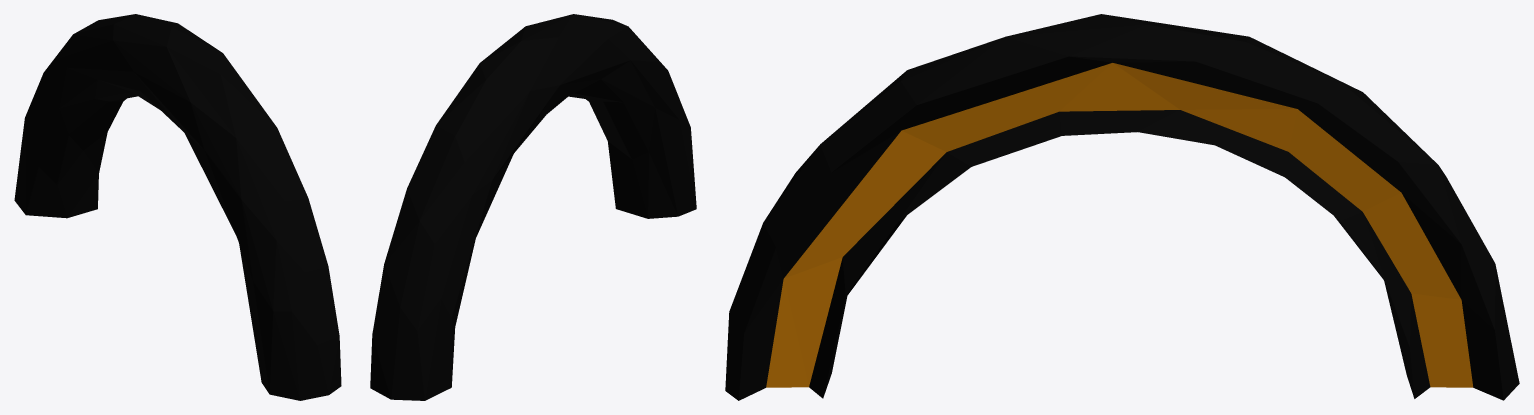
File: ring.fbx
3 views of the same model, side by side, from view 1: azimuth 30°, elevation 25°; view 2: azimuth 150°, elevation 25°; view 3: azimuth 270°, elevation 25° (orthographic). The views are drawn at different scales.
Visible parts, largest first — view 1: Torus; view 2: Torus; view 3: Torus.
Boxes of the visible parts, bbox=[...] form: Torus: bbox=[14, 14, 341, 400]; Torus: bbox=[370, 14, 696, 400]; Torus: bbox=[725, 14, 1519, 400].
Bounding box in the file's own units: 48.24 × 191 × 380.
